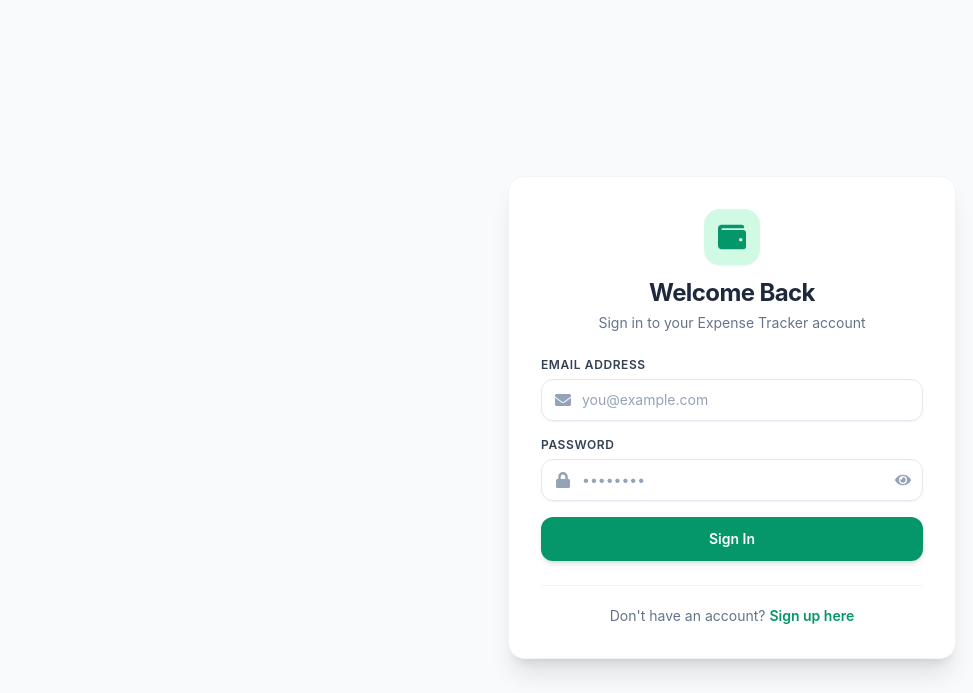
Test: LoginForm / LoginPage Component › redirects to /dashboard upon successful authentication
The width and height of the screenshot is (973, 693).
Type "user@example.com" into the field labelled "Email Address" at (732, 400), box [541, 378, 923, 420]
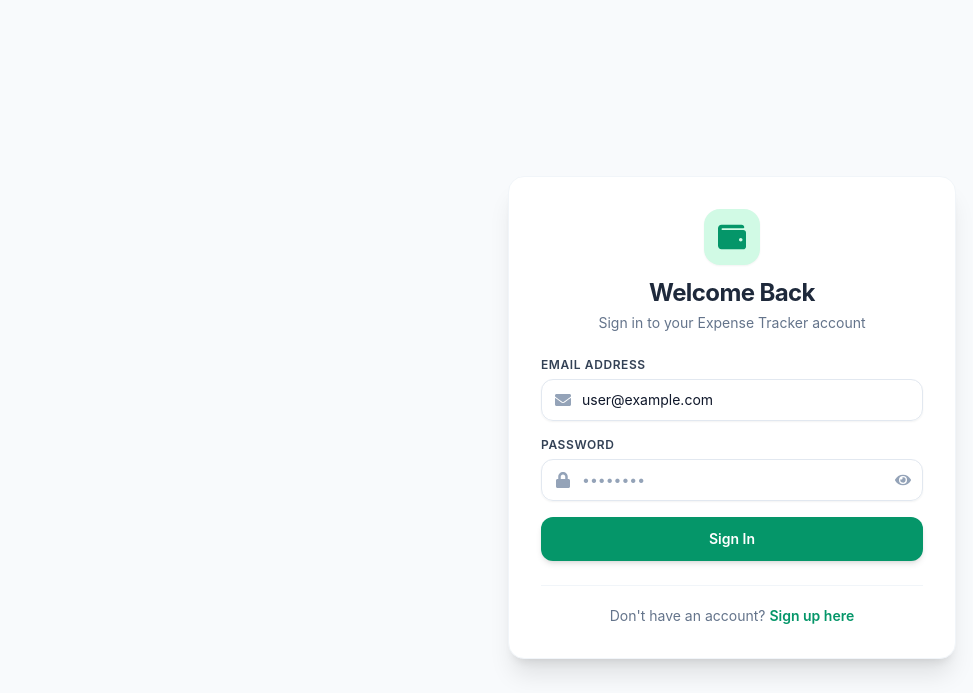
Type "validPassword" into the password field labelled "Password" at (732, 480), box [541, 458, 923, 500]
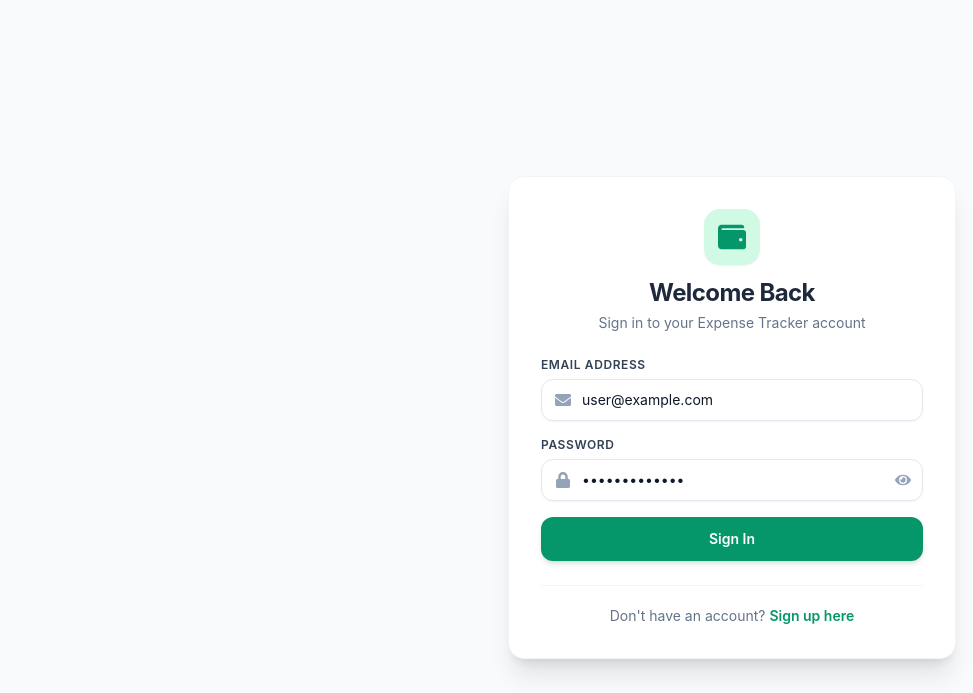
Click the button "Sign In" at (732, 538), box [541, 516, 923, 560]
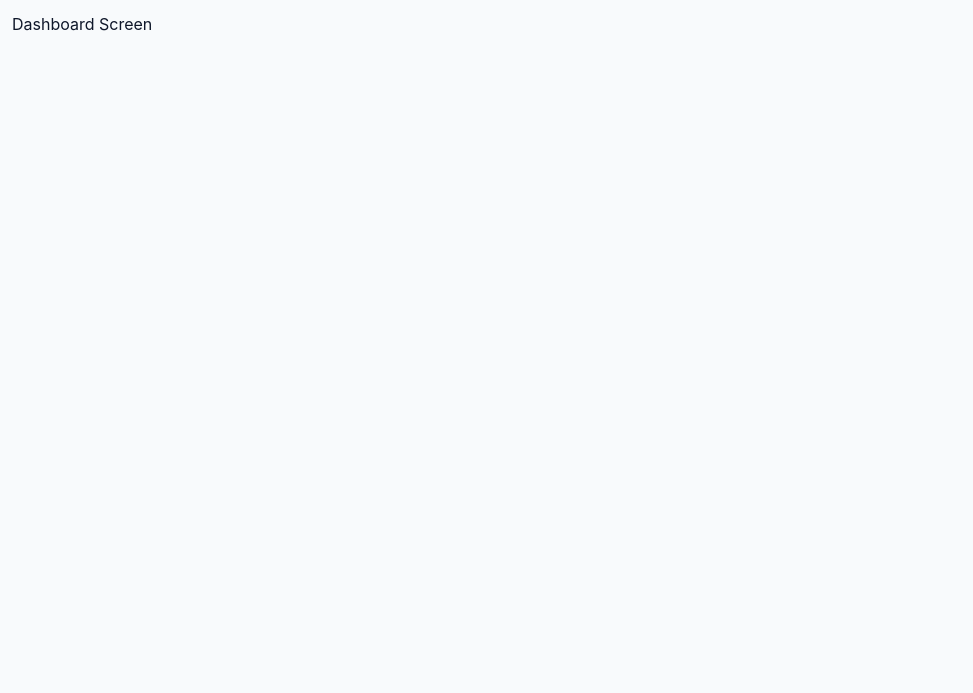
expect the text "Dashboard Screen" is shown: met, box [12, 14, 152, 34]
